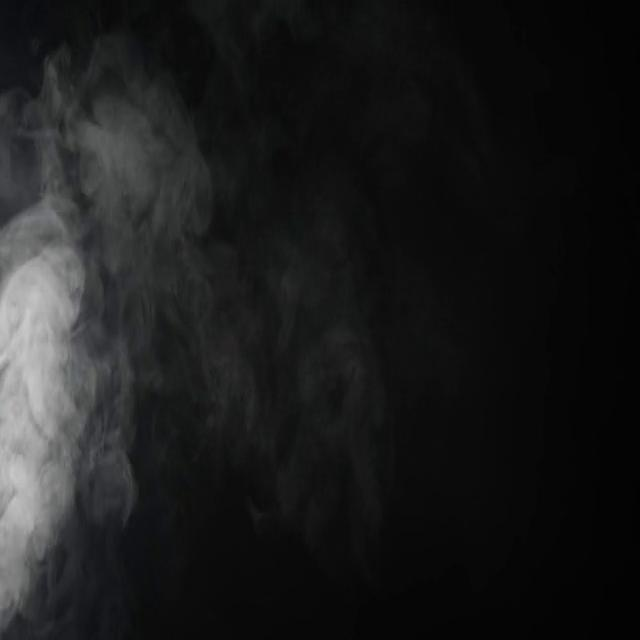smoke: (0, 199, 131, 631), (136, 250, 276, 424), (288, 320, 389, 536), (5, 41, 121, 202), (127, 75, 217, 240)
